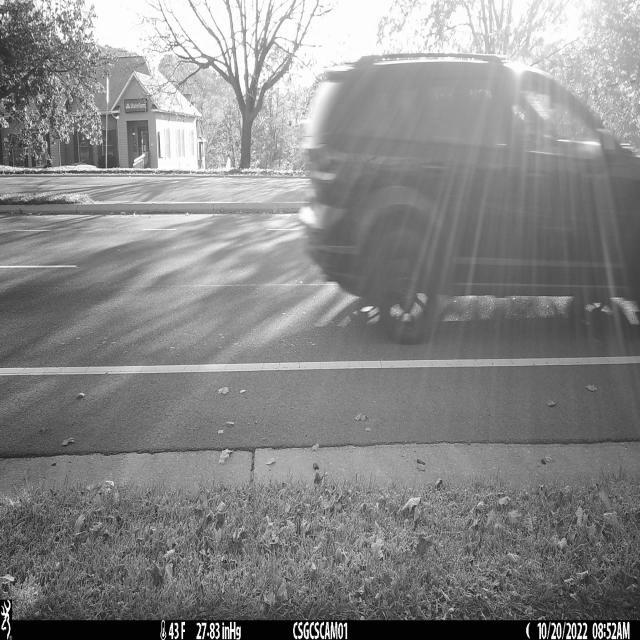SUV: (300, 53, 640, 345)
